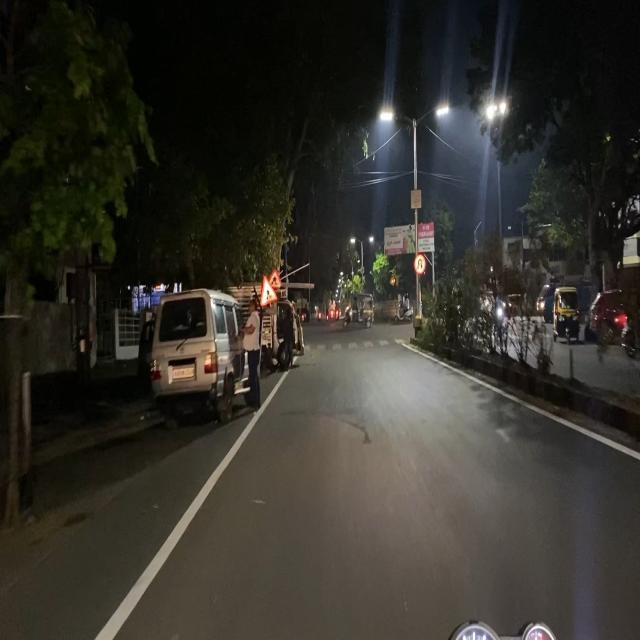bien_cam: (260, 274, 278, 307), (414, 253, 426, 275), (269, 268, 281, 289)
